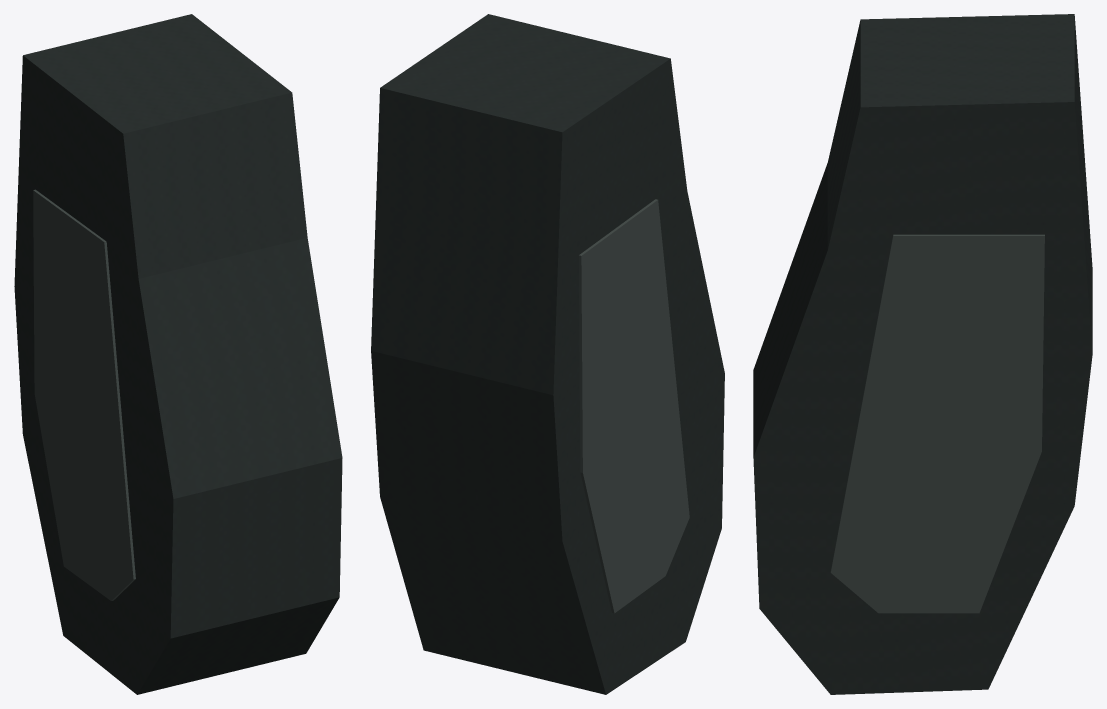
File: ak_palm.glb
The picture shows the model from 3 angles, left to right: view 1: azimuth 30°, elevation 25°; view 2: azimuth 150°, elevation 25°; view 3: azimuth 270°, elevation 25°; orthographic projection. The views are drawn at different scales.
Parts seen in each view (by area): view 1: ak_palm_contoured_grip, ak_palm_contoured_grip.001, ak_palm_grip_panel; view 2: ak_palm_contoured_grip, ak_palm_contoured_grip.001, ak_palm_grip_panel; view 3: ak_palm_contoured_grip, ak_palm_contoured_grip.001, ak_palm_grip_panel.
Part boxes in pixels (x1=…): ak_palm_contoured_grip: x1=17, y1=45, x2=336, y2=690; ak_palm_contoured_grip.001: x1=14, y1=14, x2=342, y2=694; ak_palm_grip_panel: x1=33, y1=189, x2=135, y2=600; ak_palm_contoured_grip: x1=376, y1=17, x2=723, y2=687; ak_palm_contoured_grip.001: x1=371, y1=14, x2=724, y2=694; ak_palm_grip_panel: x1=578, y1=199, x2=689, y2=613; ak_palm_contoured_grip: x1=753, y1=18, x2=1092, y2=689; ak_palm_contoured_grip.001: x1=753, y1=14, x2=1092, y2=694; ak_palm_grip_panel: x1=830, y1=234, x2=1044, y2=613.
Bounding box in the file's own units: 0.073 × 0.22 × 0.114.
Materials: 2 (1 with a texture image).
